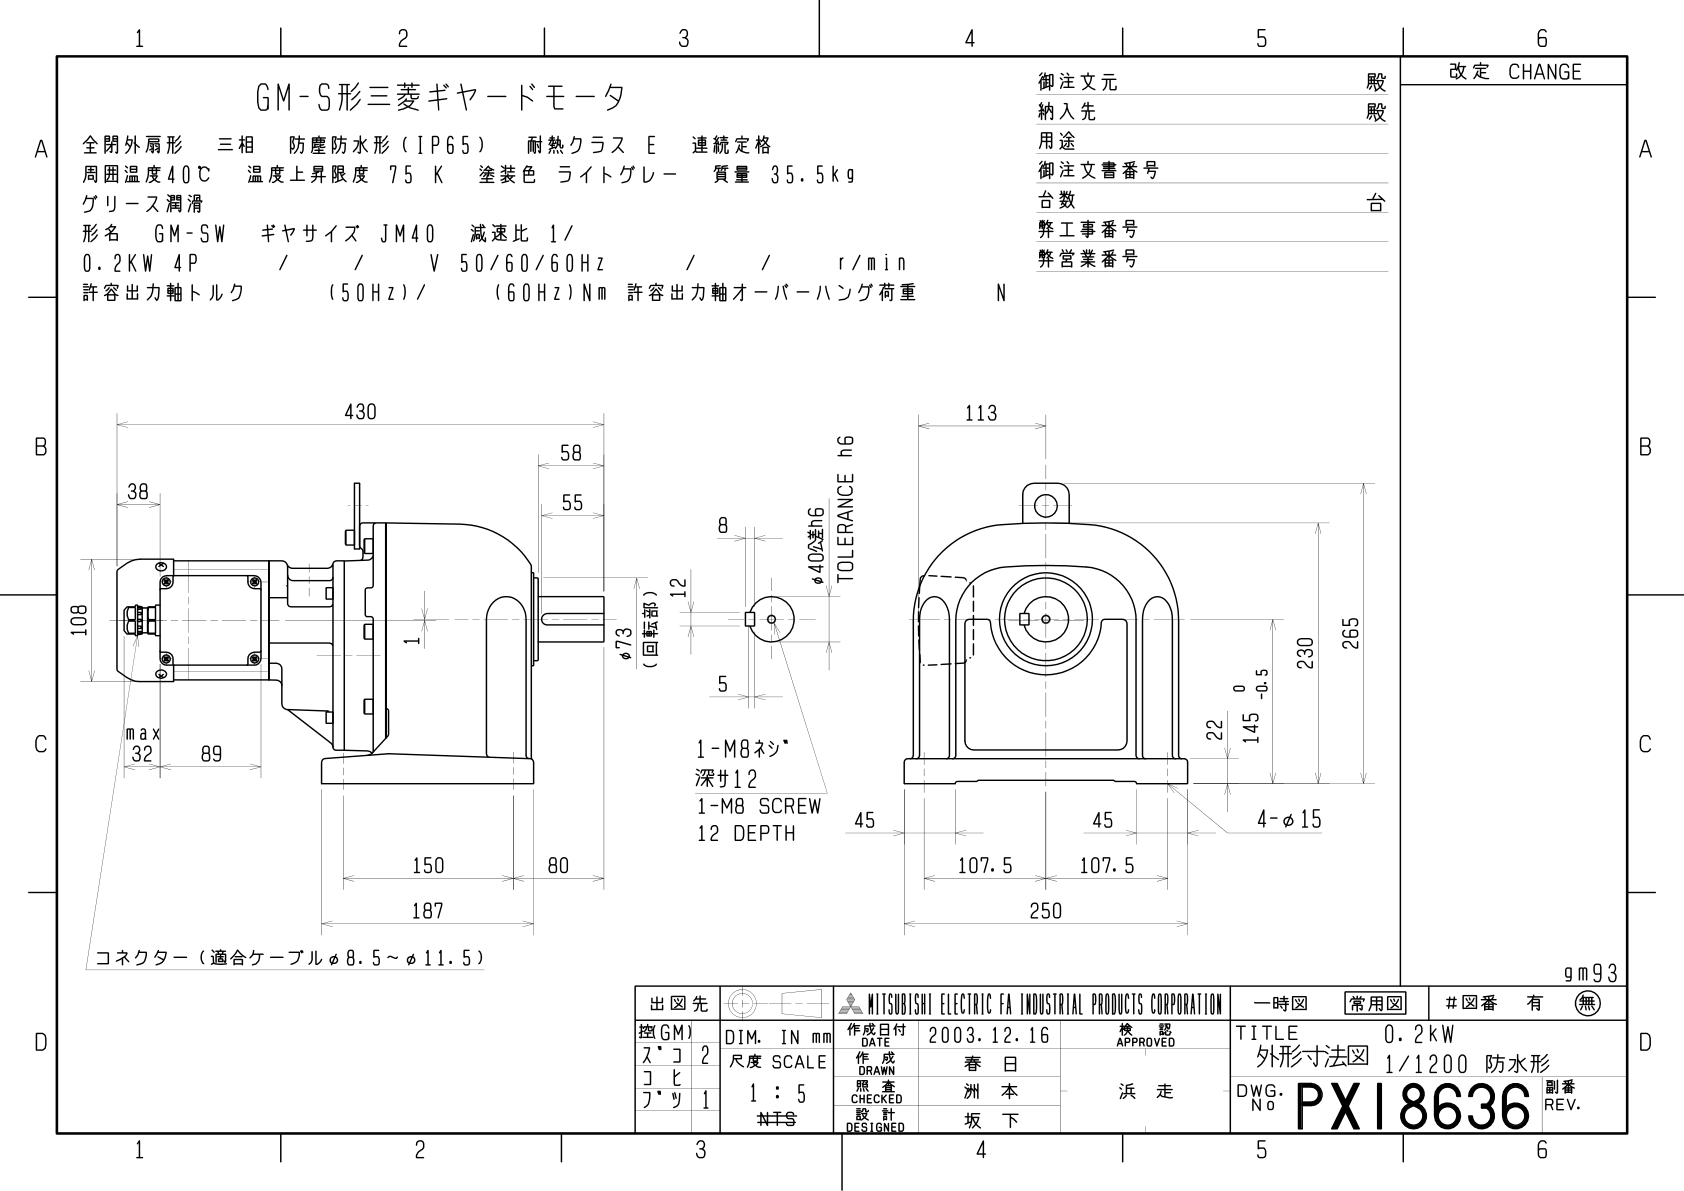GM_S_IP65＿三相_脚: (67, 367, 1389, 971)
